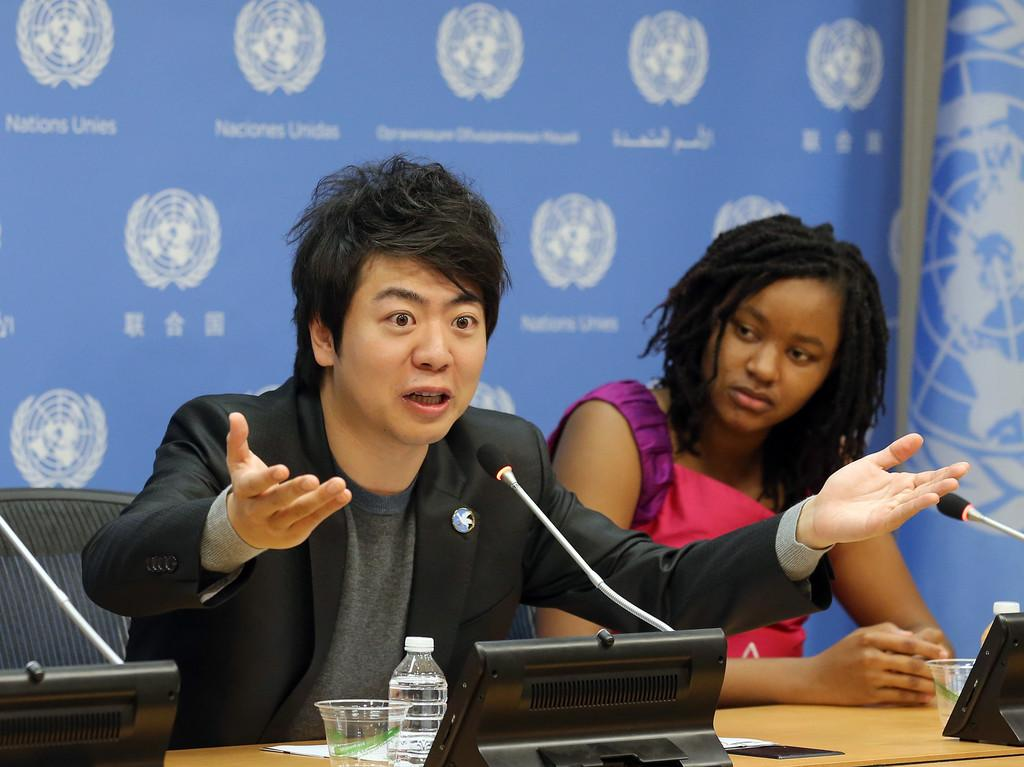face: (336, 242, 488, 444), (712, 278, 838, 430)
